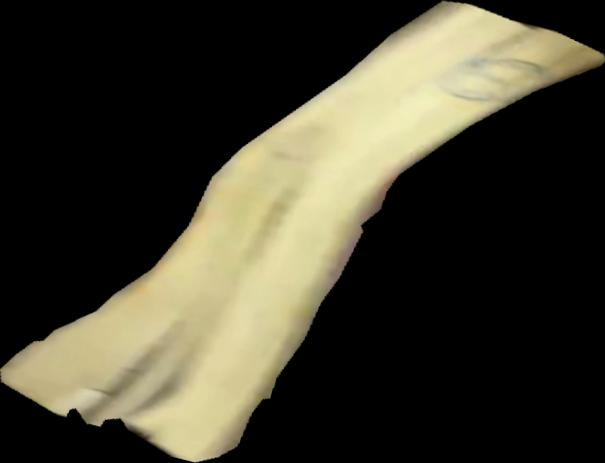backward: (1, 1, 605, 463)
